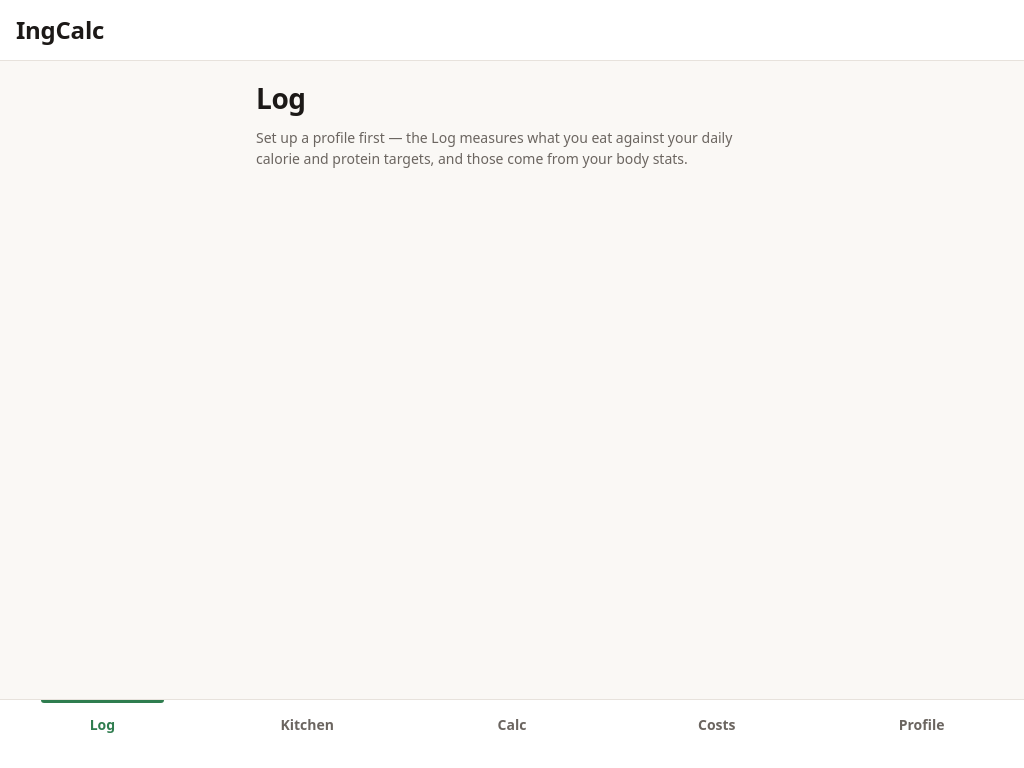
it: App › opens the Costs screen
Click the tab "Costs": [717, 734] box [614,700,819,767]
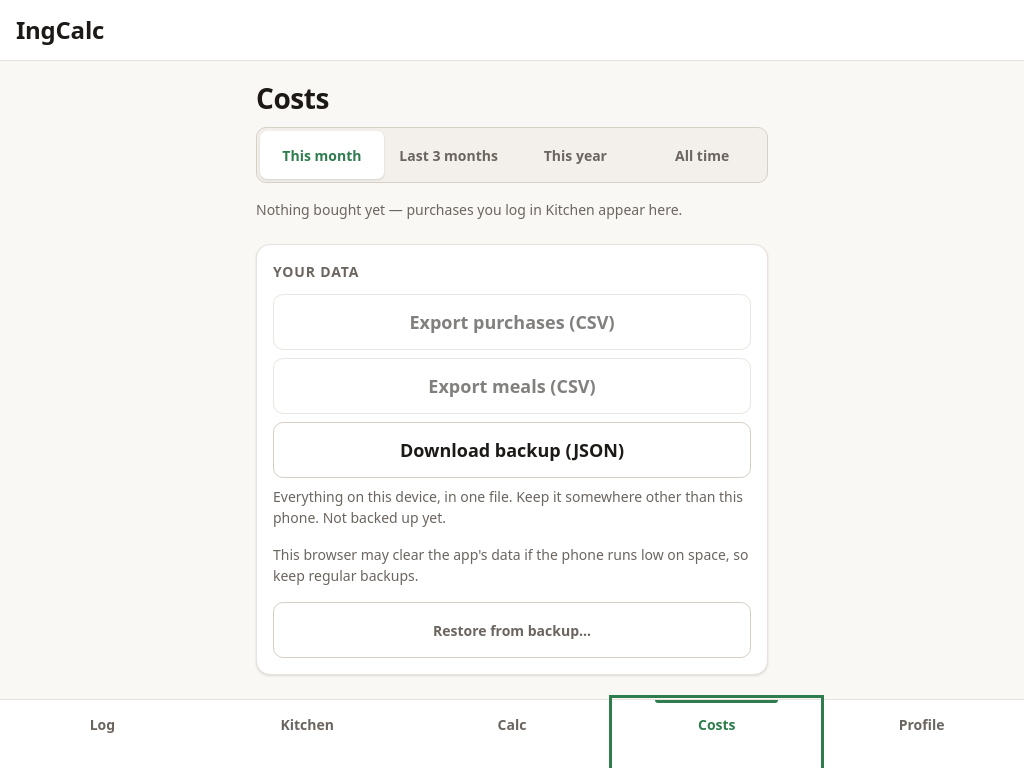
Expected: the heading "Costs" is shown, [256,79,329,117]
